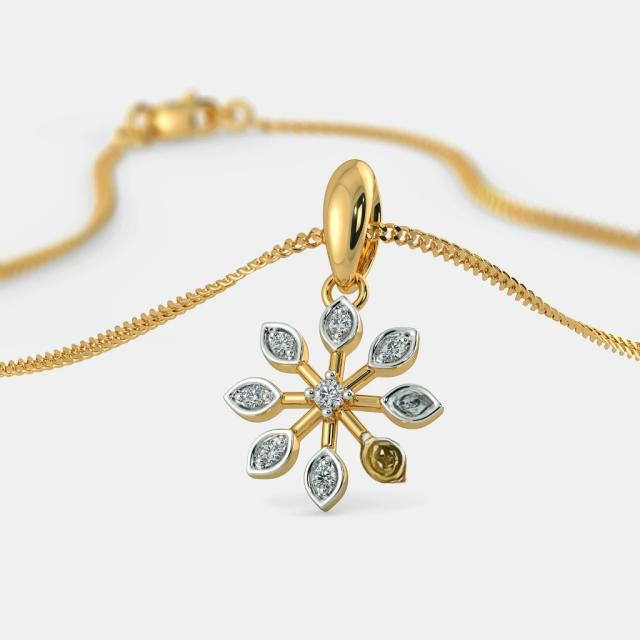missing gem: (383, 385, 440, 422), (363, 440, 406, 482)
